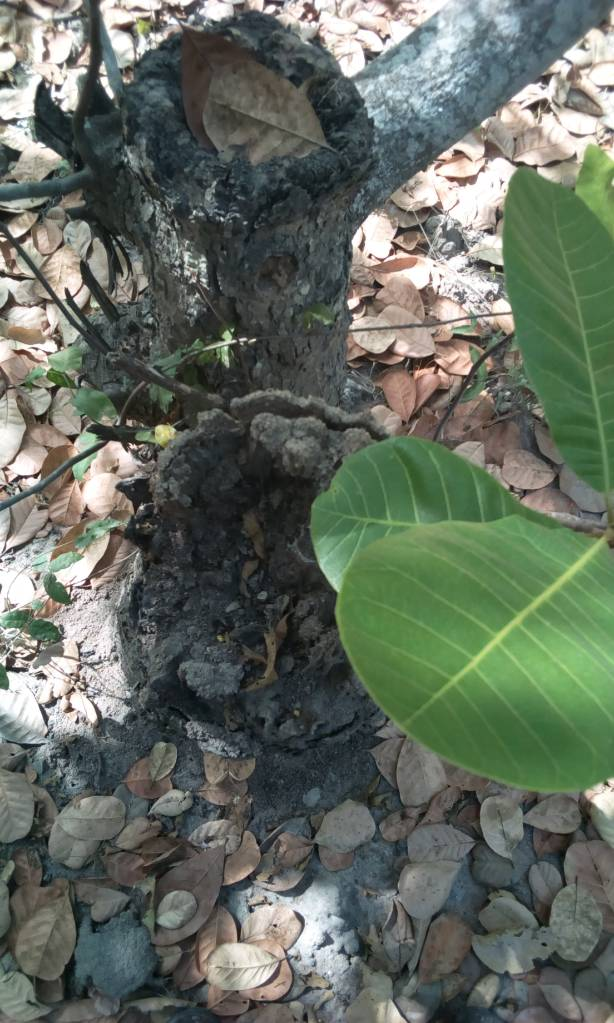Termites: (139, 410, 316, 703)
